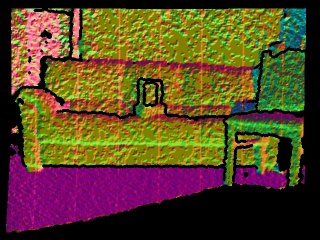station: (134, 78, 166, 116)
